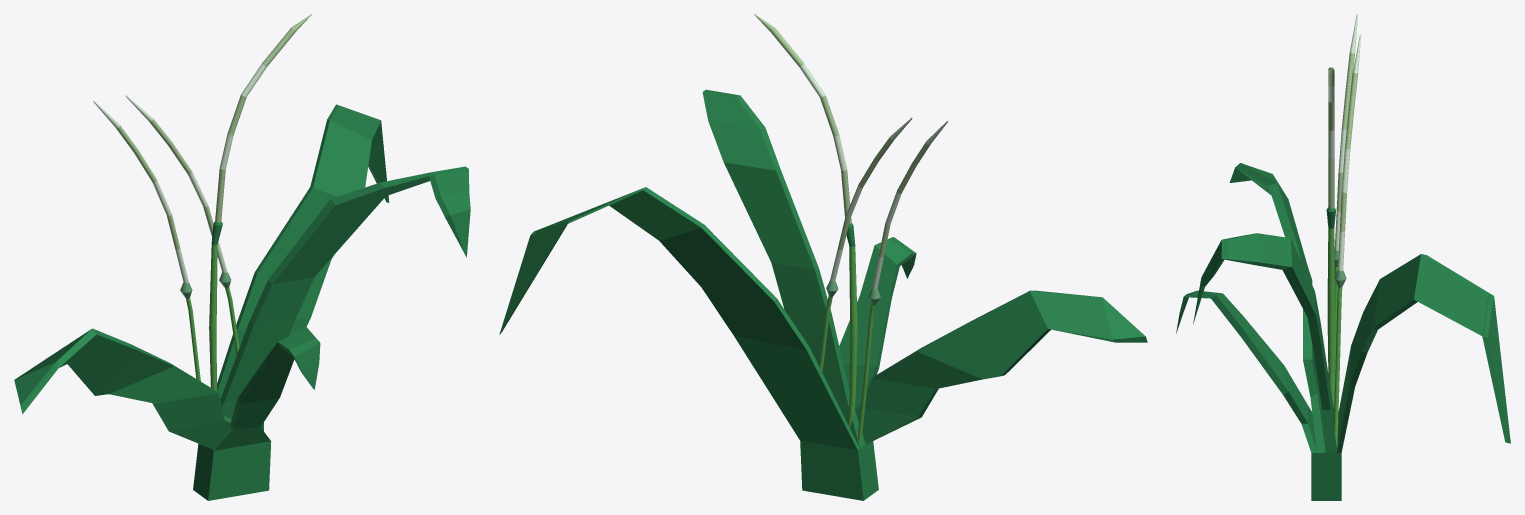
Rendered from arroz grande.fbx.
3 renders of one model, left to right at view 1: azimuth 30°, elevation 25°; view 2: azimuth 150°, elevation 25°; view 3: azimuth 270°, elevation 25°, orthographic.
Parts seen in each view (by area): view 1: Cube, rice.001, rice.003, rice.002; view 2: Cube, rice.001, rice.003, rice.002; view 3: Cube, rice.001, rice.002, rice.003.
Part boxes in pixels (x1,y1,x2,y2): Cube: (14, 104, 470, 500); rice.001: (209, 14, 311, 391); rice.003: (93, 101, 200, 381); rice.002: (125, 95, 239, 355); Cube: (499, 89, 1147, 500); rice.001: (754, 14, 857, 427); rice.003: (858, 120, 948, 443); rice.002: (819, 117, 912, 372); Cube: (1176, 163, 1510, 500); rice.001: (1326, 67, 1335, 409); rice.002: (1333, 34, 1361, 447); rice.003: (1334, 14, 1357, 401).
Bounding box in the file's own units: 1204 × 1042 × 689.
